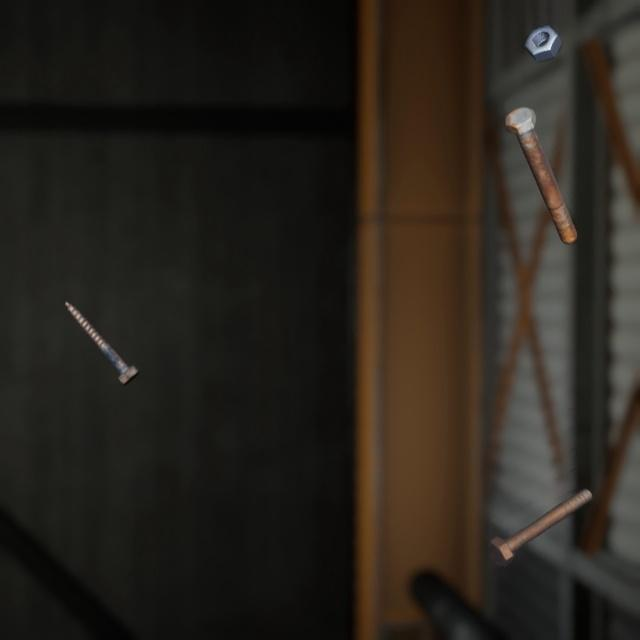bolt: (500, 88, 581, 235), (482, 463, 596, 549), (60, 279, 143, 371)
nut: (520, 11, 566, 57)
